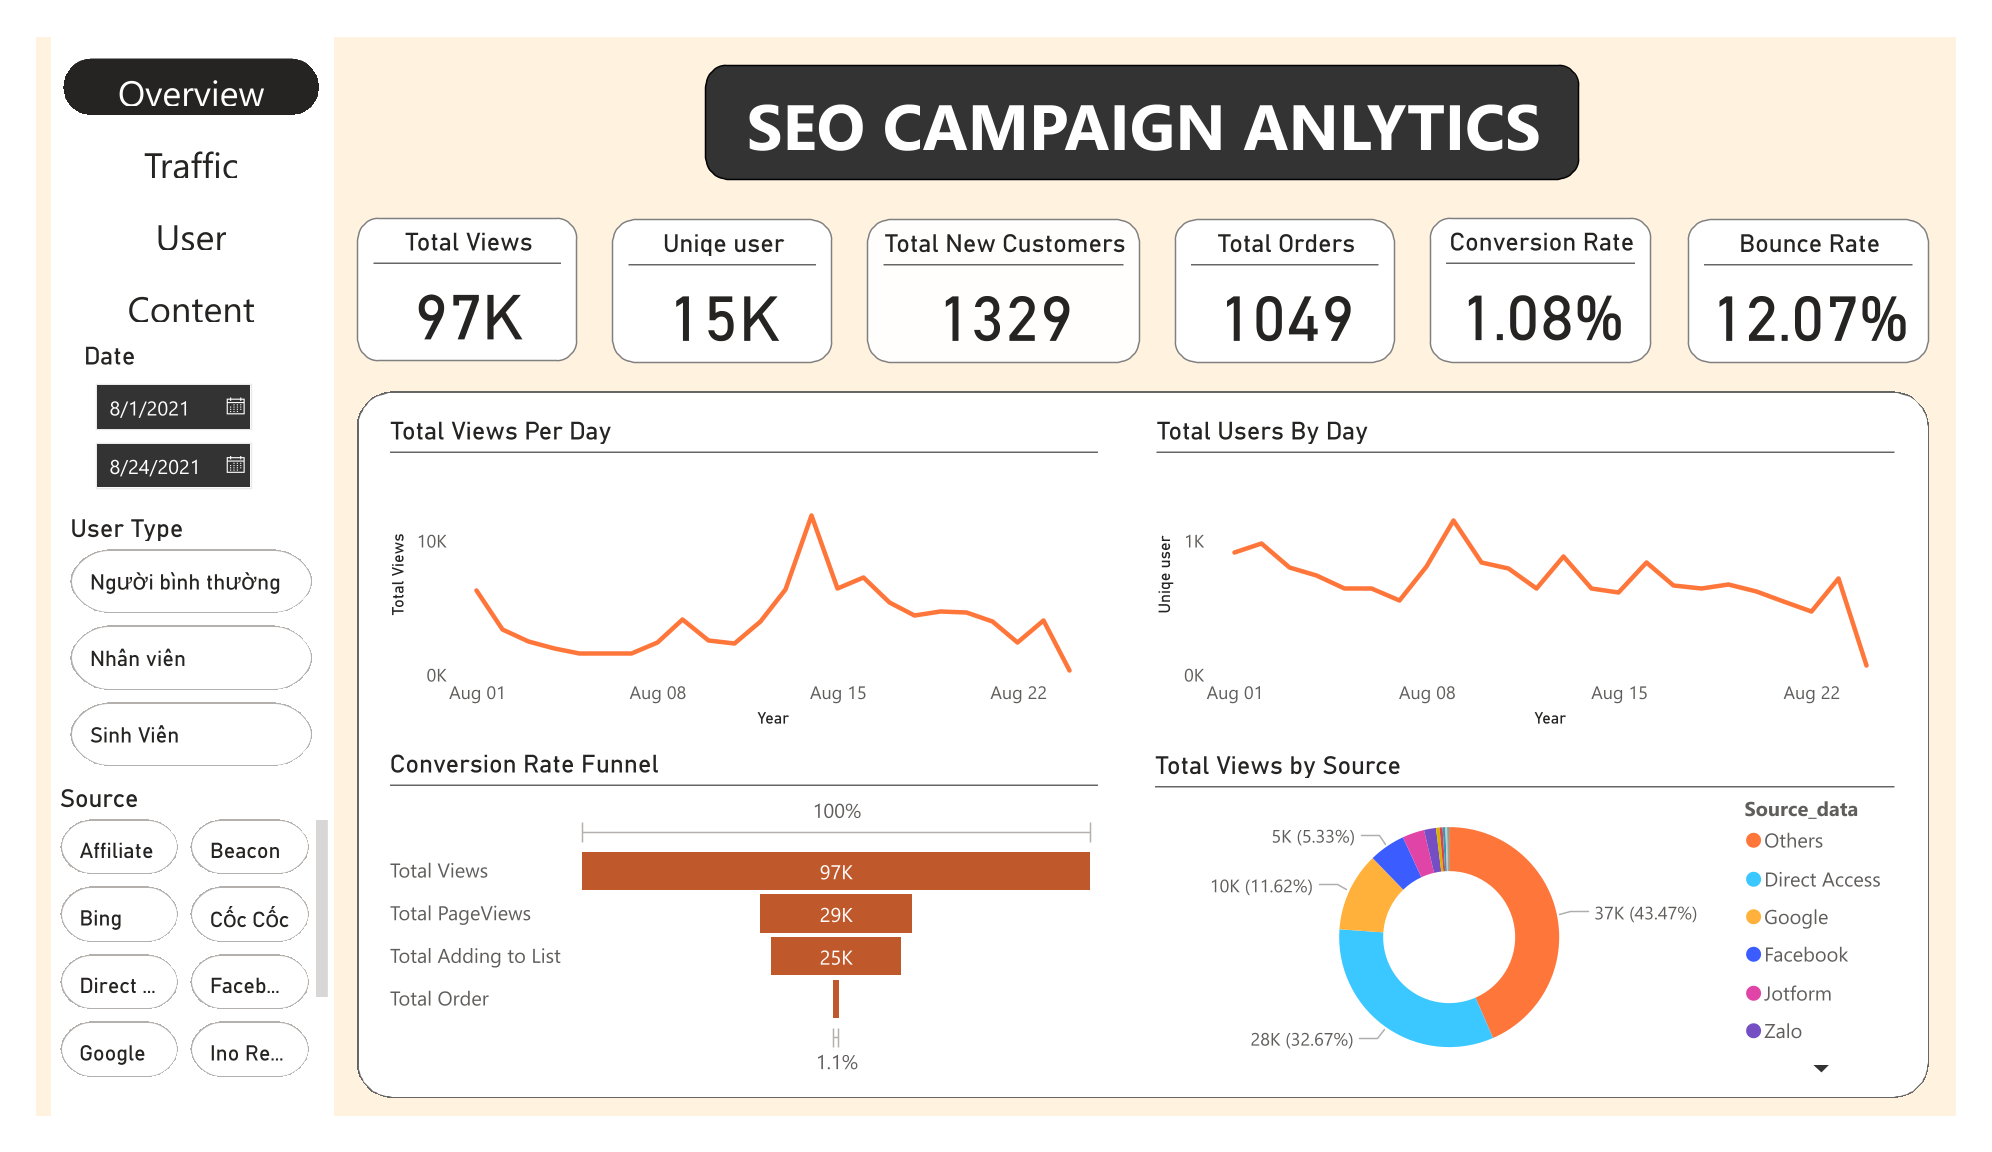

Layout of this report page (visuals, bound fields, positions):
{"tool":"powerbi","page":{"name":"Overview","canvas":[1280,720],"ordinal":0},"visuals":[{"type":"shape","box":[9.6,0,189.4,720.4],"z":500},{"type":"shape","box":[214.1,237.4,1048.4,470.7],"z":1000},{"type":"card","title":"Total New Customers","fields":{"Values":["Meansure.Total New Customers"]},"box":[552.3,122.5,186.2,96.2],"z":2000},{"type":"card","title":"Total Orders","fields":{"Values":["Meansure.Total Completed Order"]},"box":[760.9,122.1,146.8,96.1],"z":3000},{"type":"card","title":"Conversion Rate","fields":{"Values":["Meansure.Conversion Rate"]},"box":[930,120.8,148.2,97.4],"z":4000},{"type":"card","title":"Total Views","fields":{"Values":["Meansure.Total Views"]},"box":[214.1,120.8,146.8,96.1],"z":5000},{"type":"card","title":"Unique Users","fields":{"Values":["Meansure.Uniqe user"]},"box":[383.2,122.1,146.8,96.1],"z":6000},{"type":"funnel","title":"Conversion Rate Funnel","fields":{"Y":["Meansure.Total Views","Meansure.Total PageViews","Meansure.Total Adding to List","Meansure.Total Completed Order"]},"box":[230.9,474.8,481.6,223.7],"z":7000},{"type":"lineChart","title":"Total Views Per Day","fields":{"Category":["uniace_x - Copy.DateTime.Variation.Date Hierarchy.Year","uniace_x - Copy.DateTime.Variation.Date Hierarchy.Quarter","uniace_x - Copy.DateTime.Variation.Date Hierarchy.Month","uniace_x - Copy.DateTime.Variation.Date Hierarchy.Day"],"Y":["Meansure.Total Views"]},"box":[231.3,252.5,481.5,212],"z":8000},{"type":"lineChart","title":"Total Users By Day","fields":{"Y":["Meansure.Uniqe user"],"Category":["uniace_x - Copy.DateTime.Variation.Date Hierarchy.Year","uniace_x - Copy.DateTime.Variation.Date Hierarchy.Quarter","uniace_x - Copy.DateTime.Variation.Date Hierarchy.Month","uniace_x - Copy.DateTime.Variation.Date Hierarchy.Day"]},"box":[742,252.7,501.9,212],"z":9000},{"type":"advancedSlicerVisual","title":"User Type","fields":{"Values":["UNIACE (2).Customer Type"]},"box":[17.8,318.4,171.5,174.3],"z":10000},{"type":"slicer","title":"Date","fields":{"Values":["uniace_x - Copy.DateTime"]},"box":[27.4,203.1,155.1,105.7],"z":11000},{"type":"card","title":"Bounce Rate","fields":{"Values":["Meansure.BounceRate1"]},"box":[1100.5,122.1,161.9,96.1],"z":12000},{"type":"donutChart","title":"Total Views by Source","fields":{"Category":["UNIACE (2).Source_data"],"Y":["Meansure.Total Views"]},"box":[741.4,476.2,502.2,223.7],"z":13000},{"type":"advancedSlicerVisual","title":"Source","fields":{"Values":["UNIACE (2).Source_data"]},"box":[11,498.1,189.4,201.7],"z":14000},{"type":"textbox","box":[421.3,15.1,640.8,87.8],"z":15000},{"type":"pageNavigator","box":[17.8,15.1,171.5,183.9],"z":16000}]}

Visuals, with their boxes in screenshot pixels (x1, y1, x2, y2), scaled from the page's 1280x720 canvas onto the 1992x1152 screenshot:
shape: 15,0,310,1151
shape: 333,380,1965,1133
"Total New Customers" card: 860,196,1149,350
"Total Orders" card: 1184,195,1413,349
"Conversion Rate" card: 1447,193,1678,349
"Total Views" card: 333,193,562,347
"Unique Users" card: 596,195,825,349
"Conversion Rate Funnel" funnel: 359,760,1109,1118
"Total Views Per Day" lineChart: 360,404,1109,743
"Total Users By Day" lineChart: 1155,404,1936,744
"User Type" advancedSlicerVisual: 28,509,295,788
"Date" slicer: 43,325,284,494
"Bounce Rate" card: 1713,195,1965,349
"Total Views by Source" donutChart: 1154,762,1935,1120
"Source" advancedSlicerVisual: 17,797,312,1120
textbox: 656,24,1653,165
pageNavigator: 28,24,295,318
